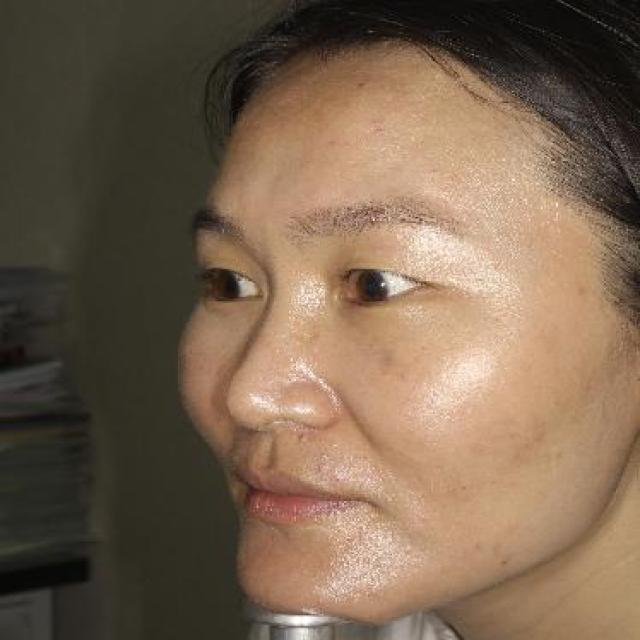blackheads: (330, 474, 348, 483)
whiteheads: (288, 426, 316, 448), (364, 586, 382, 599), (313, 463, 329, 474), (317, 449, 332, 458)
